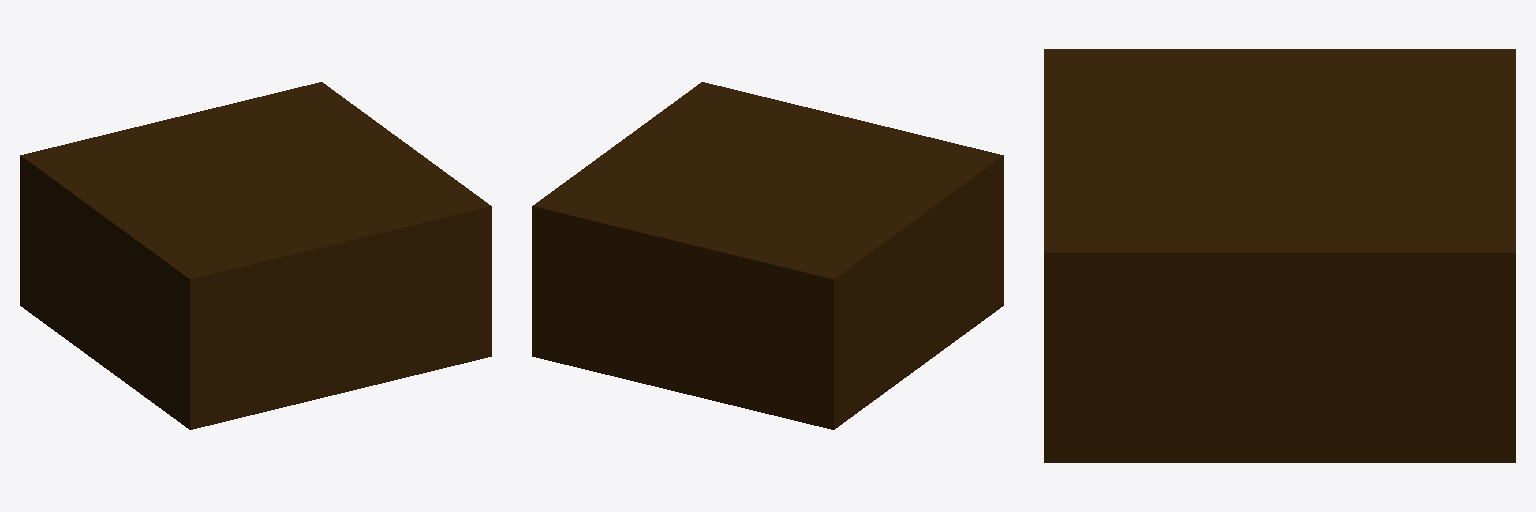
URDF robot description (box013):
<?xml version="1.0" ?>
<robot name="box013">
  <link name="box013_body">
    <visual>
      <origin xyz="0 0 0" rpy="0 0 0"/>
      <geometry>
        <box size="0.203 0.198 0.097"/>
      </geometry>
      <material name="CardBoard">
        <color rgba="0.2667536437511444 0.17454615235328674 0.06440283358097076 1" />
      </material>
    </visual>
    <collision>
      <origin xyz="0 0 0" rpy="0 0 0"/>
      <geometry>
        <box size="0.203 0.198 0.097"/>
      </geometry>
    </collision>
    <inertial>
      <origin xyz="0 0 -0.03937" rpy="0 0 0"/>
      <mass value="0.550"/>
      <inertia ixx="0.00211477" ixy="0" ixz="0" iyy="0.0021974" iyz="0" izz="0.0038231" />
    </inertial>
  </link>
</robot>

--- What the picture shows (computed from the rendered views, not written in the file) ---
Views: 3 orthographic renders of the robot side by side, from view 1: azimuth 30°, elevation 25°; view 2: azimuth 150°, elevation 25°; view 3: azimuth 270°, elevation 25°.
Model box013 with 1 links and 0 joints (none), rooted at box013_body, posed every joint at zero.
Visible links, largest first — view 1: box013_body; view 2: box013_body; view 3: box013_body.
Link boxes in pixels (box(x1,y1,x2,y2)): box013_body: box(20, 82, 491, 429); box013_body: box(532, 82, 1003, 429); box013_body: box(1044, 49, 1515, 462).
Size in the robot's own frame: 0.203 by 0.198 by 0.097 metres.
Geometry: primitives only (box / cylinder / sphere), no mesh files.